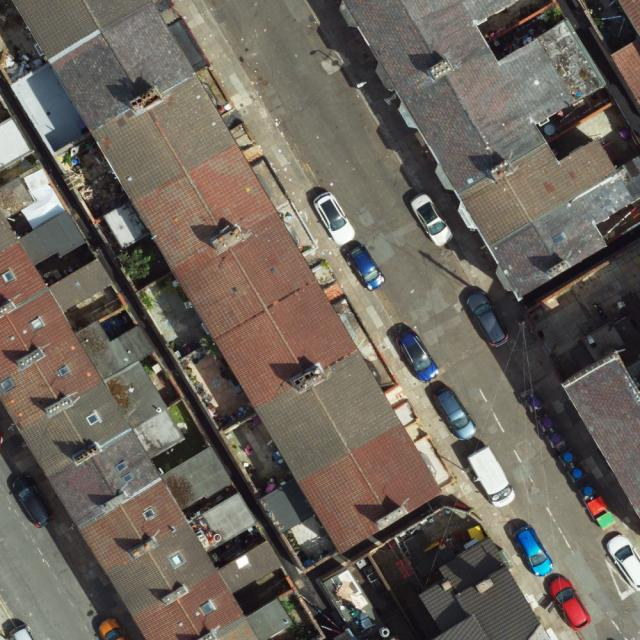roof: (11, 0, 446, 556), (0, 209, 293, 640), (343, 0, 632, 300), (562, 354, 640, 520), (422, 537, 543, 640), (612, 0, 640, 115)
skylight: (197, 596, 219, 619), (167, 551, 187, 571), (27, 313, 46, 332), (83, 408, 102, 427), (141, 505, 158, 523), (1, 268, 17, 285), (1, 376, 16, 393), (114, 459, 130, 474), (57, 364, 72, 379), (119, 471, 136, 484)
